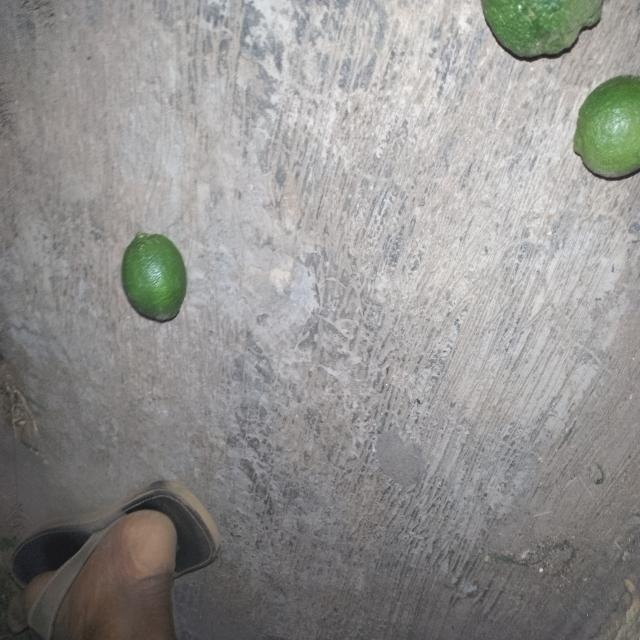agrume: (105, 215, 194, 347), (567, 57, 636, 203)
